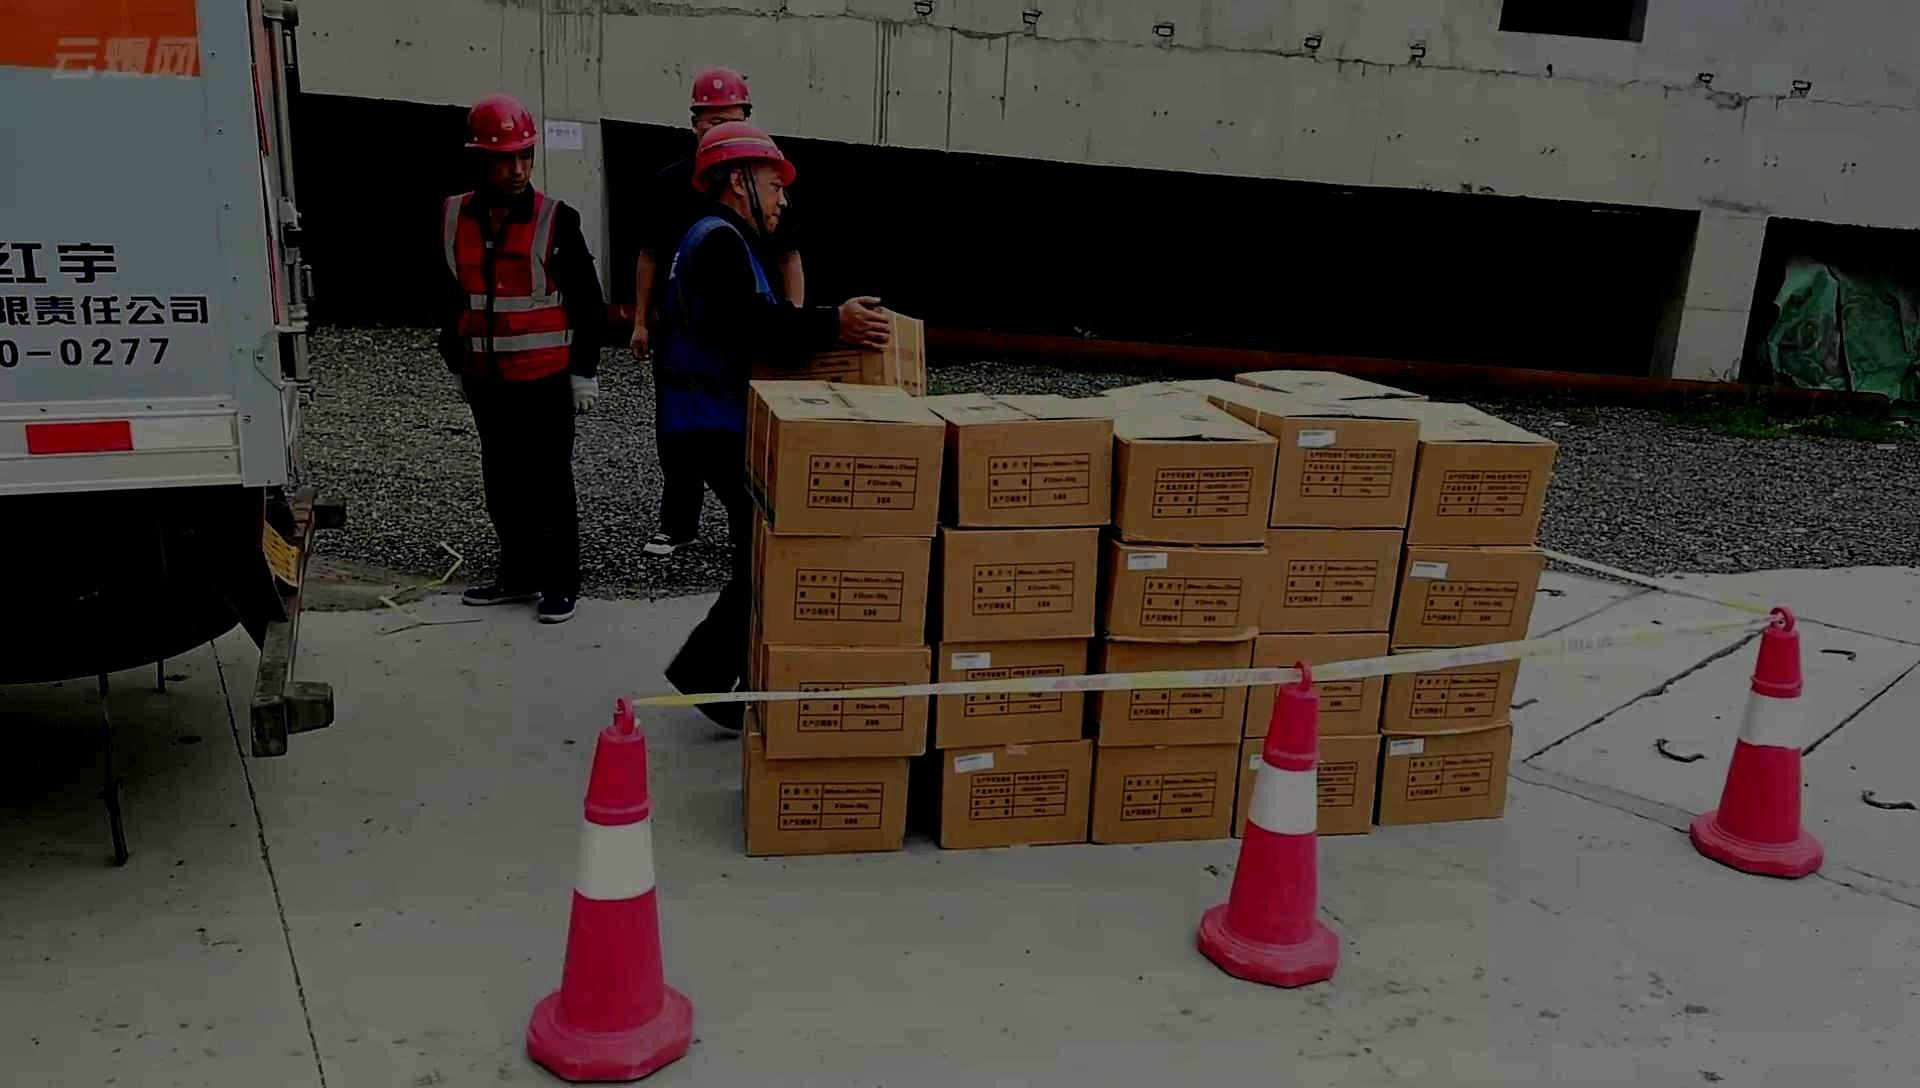helmet: (691, 121, 796, 237), (464, 92, 541, 196), (688, 63, 756, 146)
